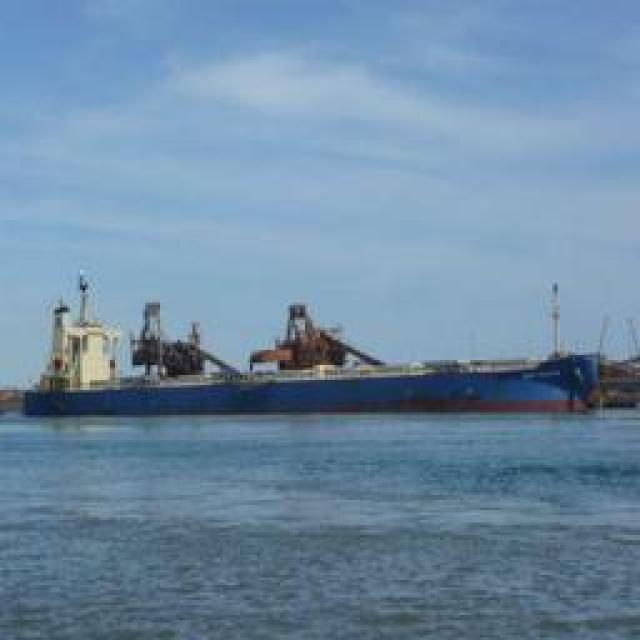CIV_Ship: (16, 282, 609, 420)
